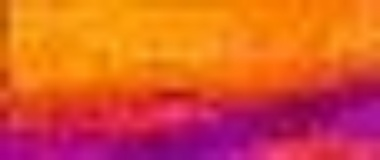Shadow: (134, 85, 380, 159)
